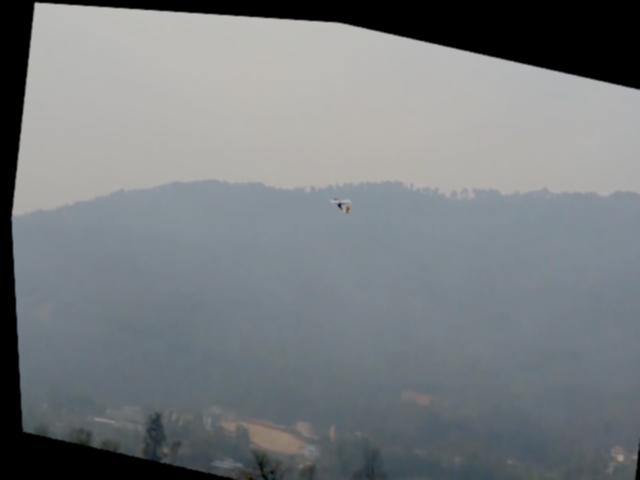plane: (325, 189, 351, 211)
